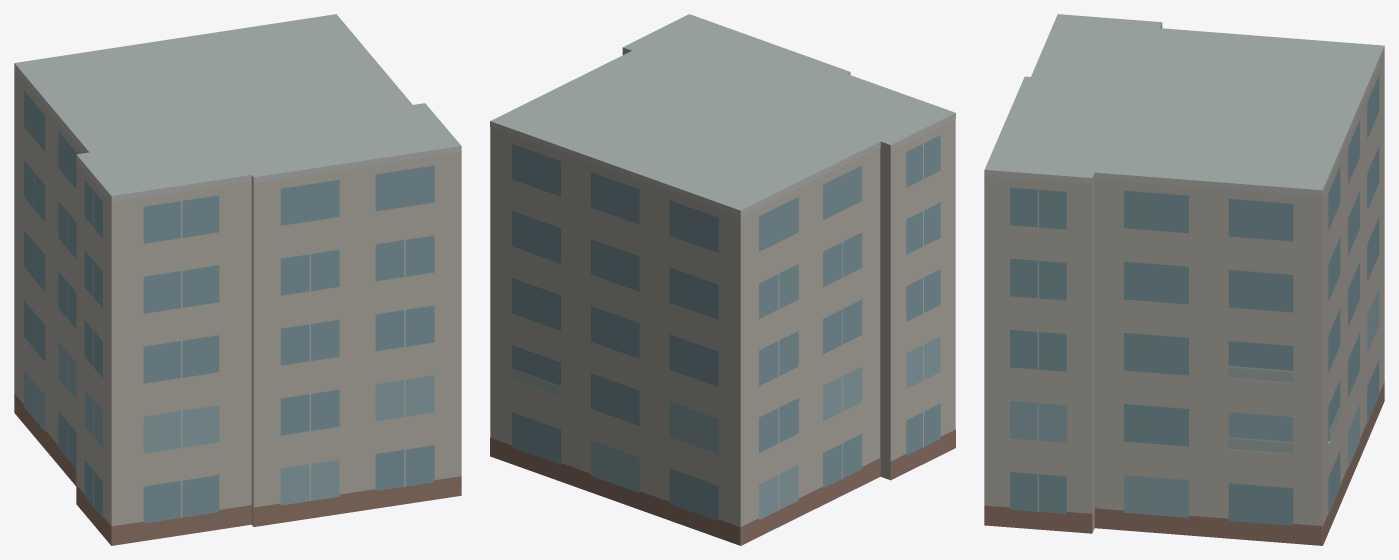
Rendered from survey-upis-32701765.glb.
3 renders of one model, left to right at view 1: azimuth 30°, elevation 25°; view 2: azimuth 150°, elevation 25°; view 3: azimuth 270°, elevation 25°, orthographic. The views are drawn at different scales.
Parts seen in each view (by area): view 1: survey-upis-32701765.tmp; view 2: survey-upis-32701765.tmp; view 3: survey-upis-32701765.tmp.
Boxes of the visible parts, box(x1,y1,x2,y2) form: survey-upis-32701765.tmp: box(14, 14, 461, 545); survey-upis-32701765.tmp: box(490, 14, 955, 545); survey-upis-32701765.tmp: box(984, 14, 1384, 545).
Size of the model in its own units: 14.9 by 14 by 14.29.
